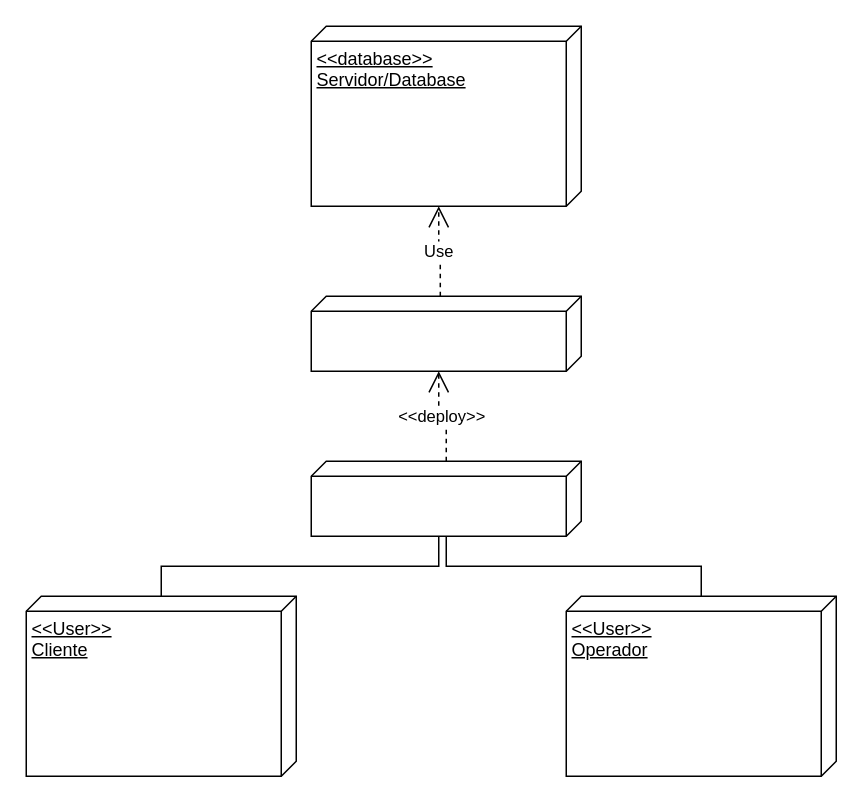
Image size: 863x803. Some labels were removed from this diagram. Each missing label, with the box of its shape:
<<red>> Internet: (310, 460, 581, 536)
Pagina Web: (310, 295, 581, 371)
